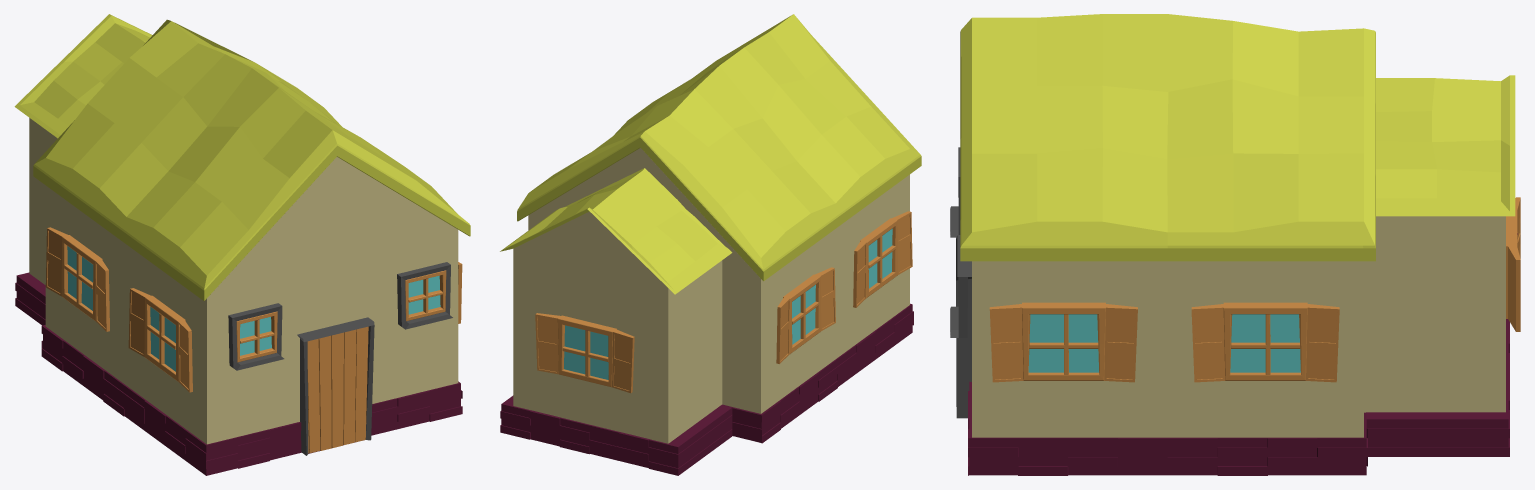
File: house-3.fbx
3 views of the same model, side by side, from view 1: azimuth 30°, elevation 25°; view 2: azimuth 150°, elevation 25°; view 3: azimuth 270°, elevation 25° (orthographic). The views are drawn at different scales.
Visible parts, largest first — view 1: Cube; view 2: Cube; view 3: Cube.
Boxes of the visible parts, x1,y1,x2,y2 form: Cube: [14, 14, 470, 475]; Cube: [500, 14, 921, 475]; Cube: [950, 14, 1520, 475].
Bounding box in the file's own units: 950 × 1055 × 1414.
